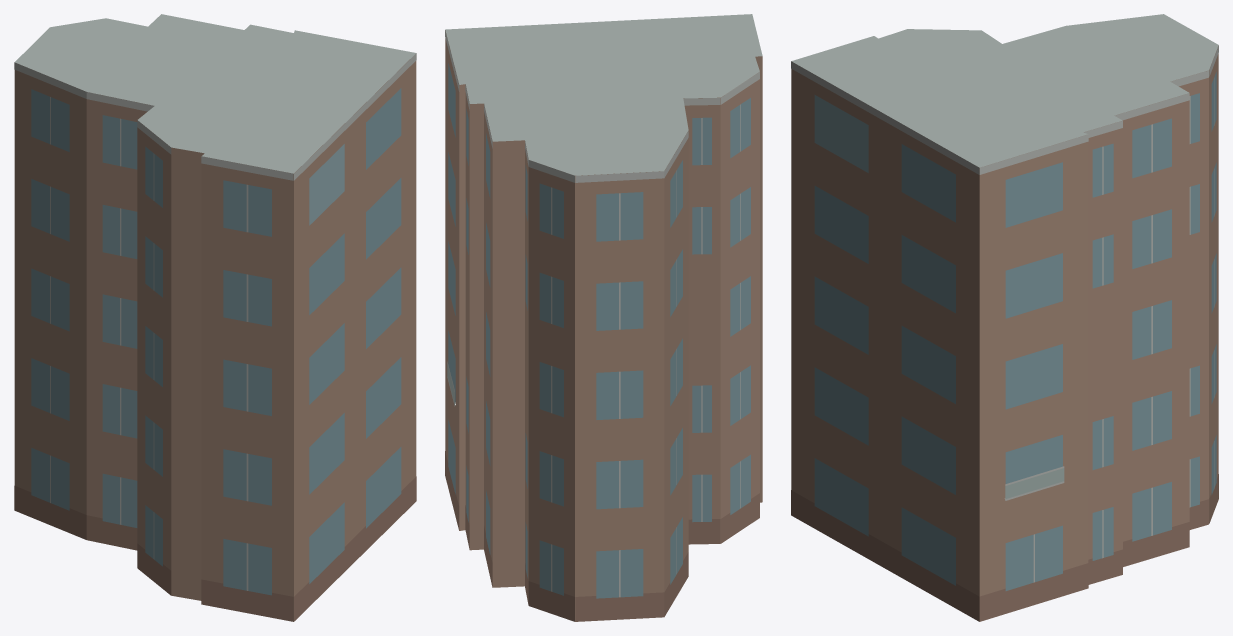
File: survey-upis-32586980.glb
3 views of the same model, side by side, from view 1: azimuth 30°, elevation 25°; view 2: azimuth 150°, elevation 25°; view 3: azimuth 270°, elevation 25° (orthographic).
Parts seen in each view (by area): view 1: survey-upis-32586980.tmp; view 2: survey-upis-32586980.tmp; view 3: survey-upis-32586980.tmp.
Boxes of the visible parts, left/top/right/bottom form: survey-upis-32586980.tmp: left=14, top=14, right=416, bottom=621; survey-upis-32586980.tmp: left=445, top=14, right=762, bottom=621; survey-upis-32586980.tmp: left=791, top=14, right=1218, bottom=621.
Bounding box in the file's own units: 10.97 × 15.1 × 12.9.
